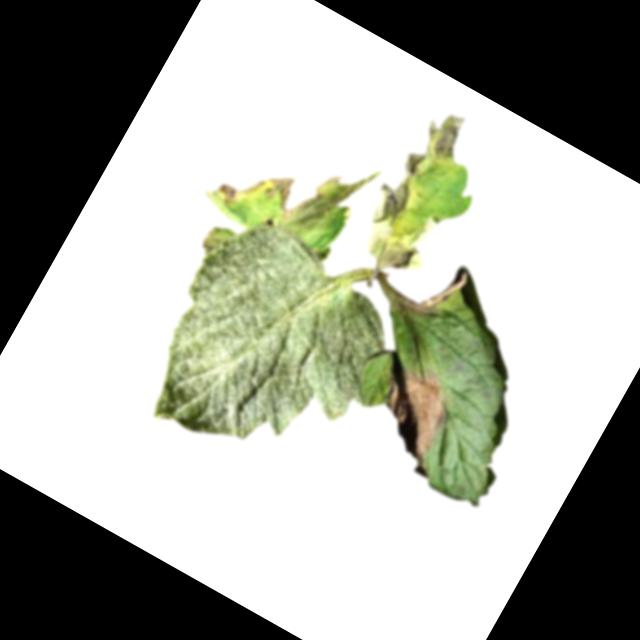Late_blight: (347, 96, 505, 286), (360, 350, 470, 468), (283, 140, 384, 252), (398, 250, 471, 328), (211, 161, 265, 215), (257, 166, 301, 213), (195, 227, 227, 262)
healthy: (121, 199, 426, 509)
